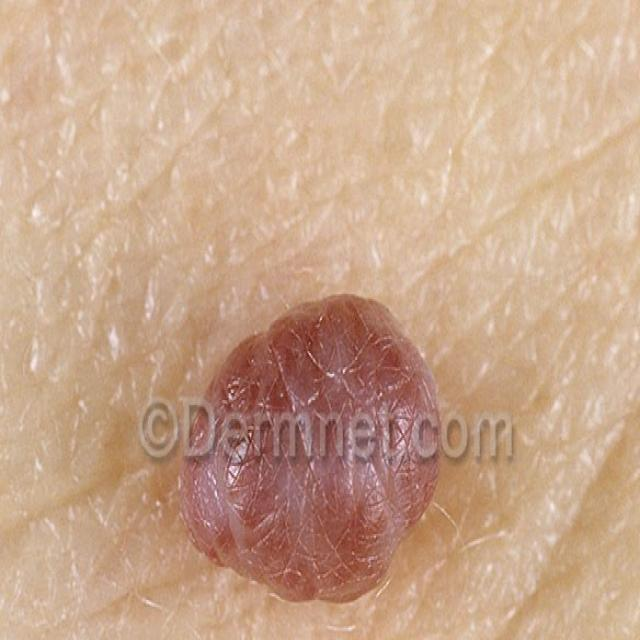Vascular Tumors: (144, 271, 501, 617)
